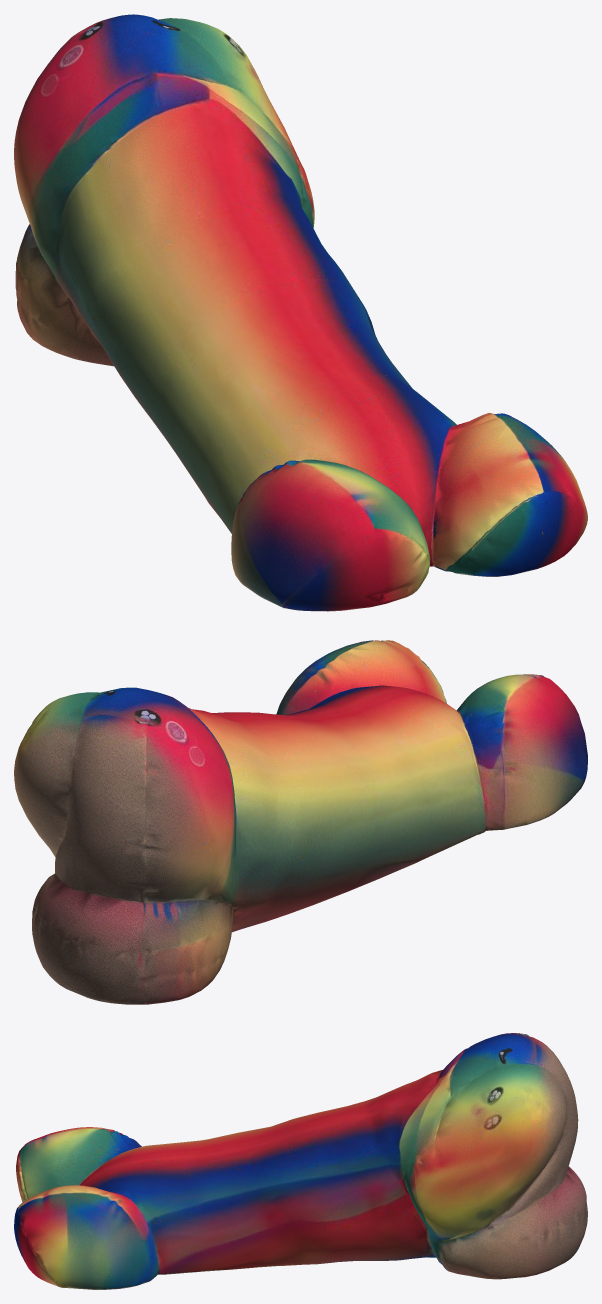
The model's file is knuffel.glb.
3 renders of one model, top to bottom at view 1: azimuth 30°, elevation 25°; view 2: azimuth 150°, elevation 25°; view 3: azimuth 270°, elevation 25°, orthographic. The views are drawn at different scales.
Bounding box in the file's own units: 0.8375 × 0.7664 × 1.9.
Materials: 1 (1 with a texture image).
